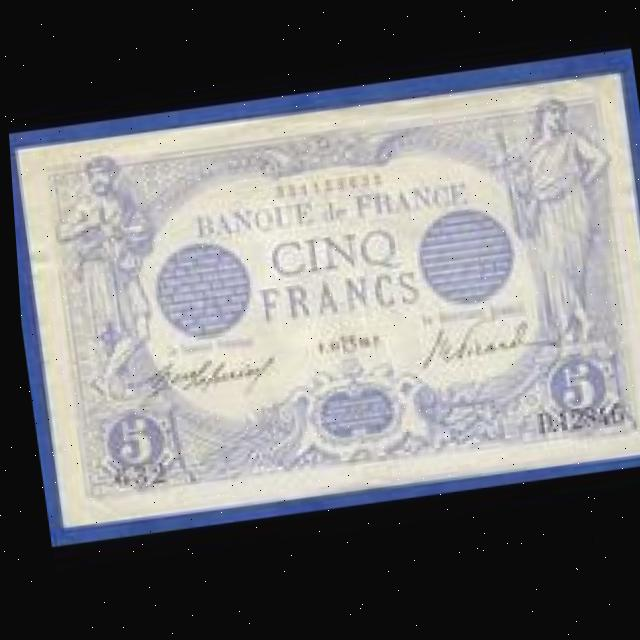banknote: (5, 55, 640, 543), (518, 336, 630, 449), (97, 405, 163, 478)
